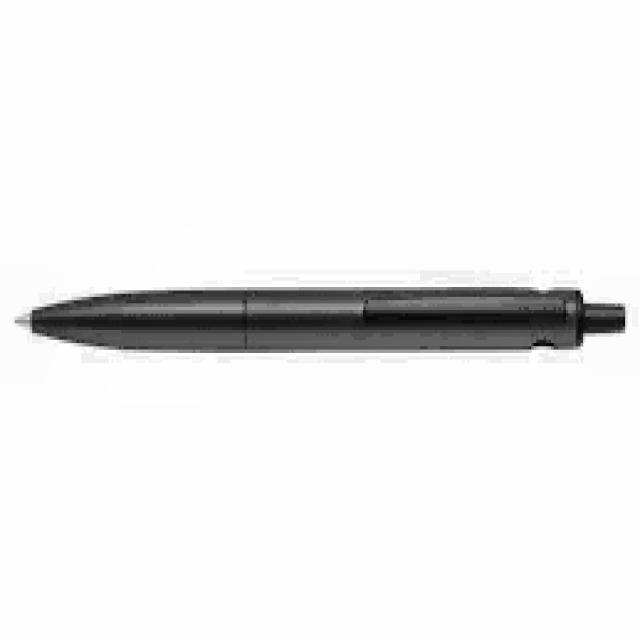Pen: (17, 287, 628, 353)
